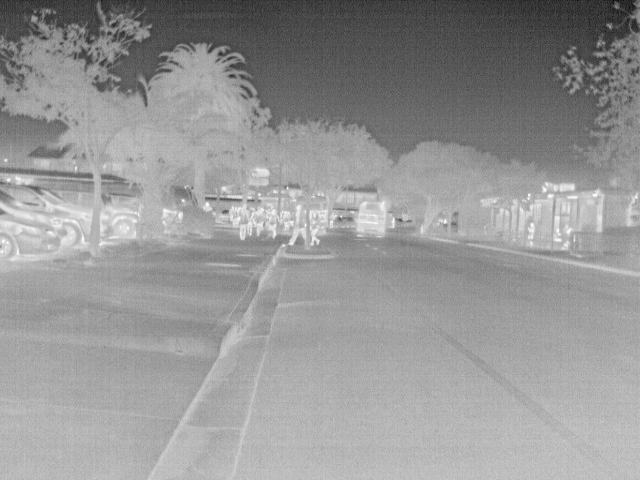car: (1, 182, 95, 249), (1, 207, 59, 264), (103, 203, 139, 240), (162, 206, 184, 232), (221, 207, 234, 222)
person: (286, 204, 309, 246), (307, 209, 322, 247), (251, 207, 268, 236), (237, 203, 250, 240), (266, 208, 280, 239), (526, 220, 538, 246), (200, 199, 216, 213), (552, 225, 564, 241), (390, 214, 397, 228)
